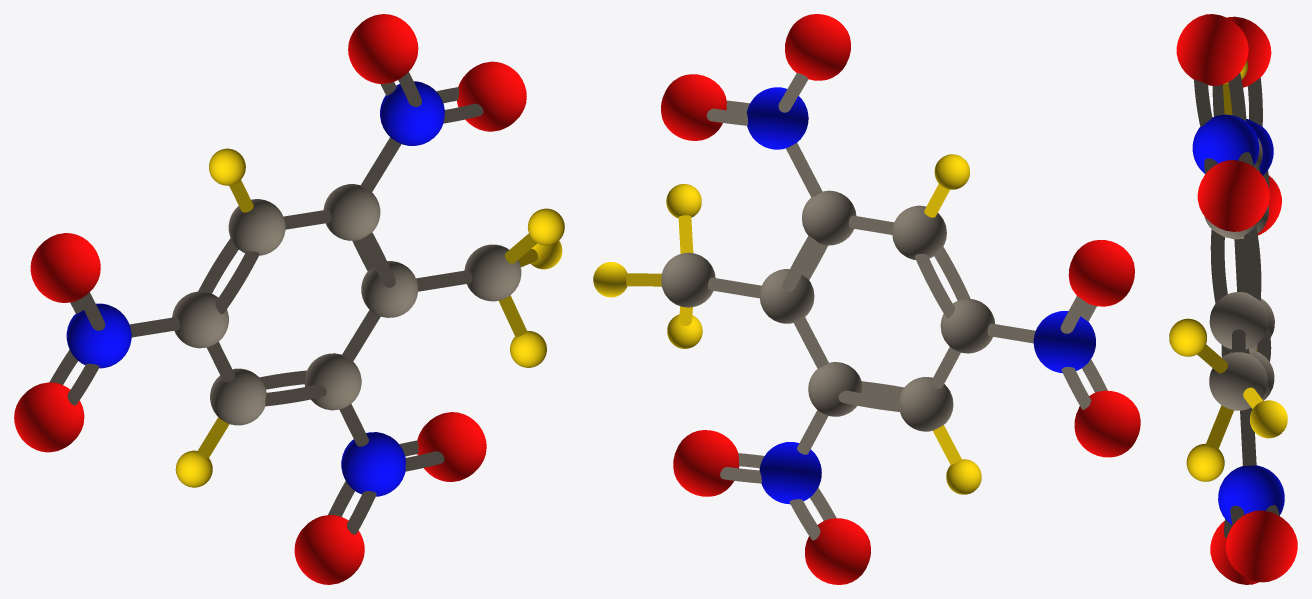
Rendered from tnt.obj.
3 renders of one model, left to right at view 1: azimuth 30°, elevation 25°; view 2: azimuth 150°, elevation 25°; view 3: azimuth 270°, elevation 25°, orthographic. The views are drawn at different scales.
Parts seen in each view (by area): view 1: oxy_004, oxy_005, oxy_001, oxy_003, oxy_006, oxy_002, nitro_02, nitro_03, nitro_01, carbon_05, carbon_01, carbon_04 (+18 smaller); view 2: oxy_004, oxy_005, oxy_003, oxy_001, oxy_002, oxy_006, nitro_02, nitro_03, nitro_01, carbon_07, carbon_05, carbon_01 (+19 smaller); view 3: oxy_006, oxy_002, oxy_005, nitro_02, nitro_03, carbon_06, carbon_07, double_link_03, oxy_004, double_link_08, hydro_03, hydro_04 (+19 smaller).
Boxes of the visible parts, x1=… form: oxy_004: x1=30, y1=233, x2=100, y2=302; oxy_005: x1=348, y1=14, x2=418, y2=83; oxy_001: x1=294, y1=515, x2=364, y2=584; oxy_003: x1=14, y1=382, x2=84, y2=452; oxy_006: x1=457, y1=61, x2=526, y2=131; oxy_002: x1=417, y1=412, x2=486, y2=481; nitro_02: x1=341, y1=432, x2=405, y2=496; nitro_03: x1=380, y1=81, x2=444, y2=145; nitro_01: x1=66, y1=303, x2=131, y2=368; carbon_05: x1=323, y1=184, x2=380, y2=240; carbon_01: x1=210, y1=368, x2=266, y2=425; carbon_04: x1=228, y1=199, x2=285, y2=255; oxy_004: x1=1068, y1=240, x2=1134, y2=306; oxy_005: x1=785, y1=14, x2=850, y2=80; oxy_003: x1=1074, y1=390, x2=1140, y2=457; oxy_001: x1=805, y1=518, x2=870, y2=584; oxy_002: x1=673, y1=430, x2=739, y2=496; oxy_006: x1=661, y1=74, x2=726, y2=140; nitro_02: x1=759, y1=442, x2=821, y2=504; nitro_03: x1=746, y1=87, x2=808, y2=149; nitro_01: x1=1033, y1=311, x2=1095, y2=373; carbon_07: x1=661, y1=252, x2=715, y2=307; carbon_05: x1=802, y1=190, x2=856, y2=245; carbon_01: x1=899, y1=377, x2=953, y2=431; oxy_006: x1=1197, y1=160, x2=1269, y2=231; oxy_002: x1=1225, y1=510, x2=1297, y2=582; oxy_005: x1=1176, y1=14, x2=1248, y2=85; nitro_02: x1=1218, y1=465, x2=1284, y2=524; nitro_03: x1=1192, y1=114, x2=1259, y2=173; carbon_06: x1=1209, y1=292, x2=1268, y2=349; carbon_07: x1=1209, y1=352, x2=1267, y2=410; double_link_03: x1=1210, y1=226, x2=1261, y2=303; oxy_004: x1=1222, y1=16, x2=1271, y2=87; double_link_08: x1=1194, y1=72, x2=1246, y2=126; hydro_03: x1=1249, y1=400, x2=1287, y2=438; hydro_04: x1=1169, y1=318, x2=1206, y2=356.
Bounding box in the file's own units: 2.98 × 2.93 × 0.5852.
